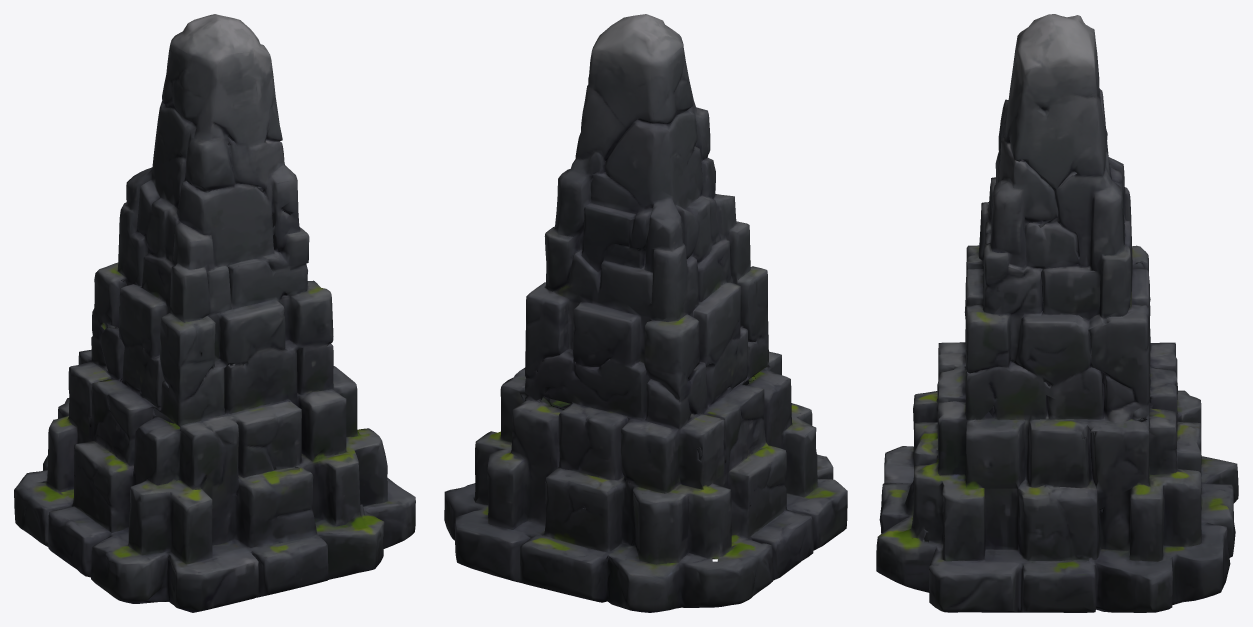
The model's file is rock_b_t1.glb.
The picture shows the model from 3 angles, left to right: view 1: azimuth 30°, elevation 25°; view 2: azimuth 150°, elevation 25°; view 3: azimuth 270°, elevation 25°; orthographic projection. The views are drawn at different scales.
Visible parts, largest first — view 1: geometry_0; view 2: geometry_0; view 3: geometry_0.
Part boxes in pixels (x1,y1,x2,y2): geometry_0: (14,14,415,612); geometry_0: (444,14,847,612); geometry_0: (876,14,1238,612).
Size of the model in its own units: 0.6035 by 0.9878 by 0.606.
Materials: 1 (1 with a texture image).
